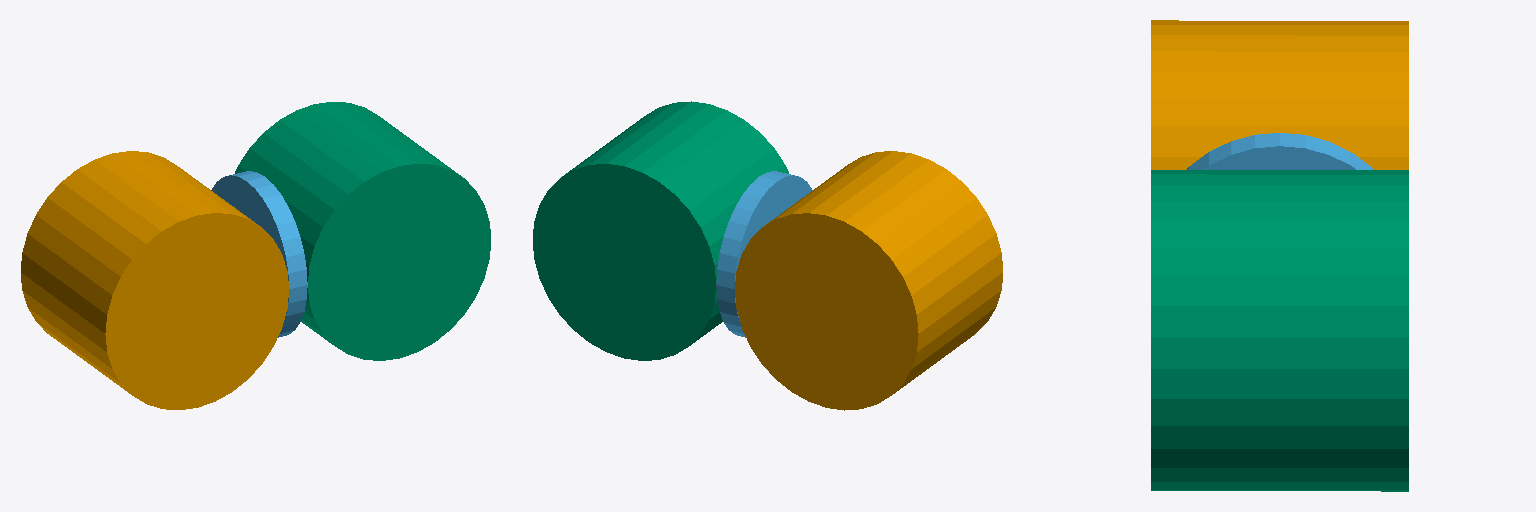
URDF robot description (magneto0):
<?xml version="1.0"?>
<robot name="magneto0">
 <link name="foot">
  <inertial>
    <mass value="1"/>
    <inertia ixx="0.00115833333333" ixy="0" ixz="0" iyy="0.00115833333333" iyz="0" izz="0.000625"/>
  </inertial>
  <visual>
    <origin rpy="1.57 0 0" xyz="0 0 0"/>
    <geometry>
      <cylinder length="0.08" radius="0.05"/>
    </geometry>
  </visual>
  <collision>
    <origin rpy="1.57 0 0" xyz="0 0 0"/>
    <geometry>
      <cylinder length="0.08" radius="0.05"/>
    </geometry>
  </collision>
 </link>

 <link name="leg">
  <inertial>
    <mass value="1"/>
    <inertia ixx="0.000408333333333" ixy="0" ixz="0" iyy="0.000408333333333" iyz="0" izz="0.0004"/>
  </inertial>
  <visual>
    <origin rpy="0 1.57 0" xyz="0.055 0 0"/>
    <geometry>
      <cylinder length="0.01" radius="0.04"/>
    </geometry>
  </visual>
  <collision>
    <origin rpy="0 1.57 0" xyz="0.055 0 0"/>
    <geometry>
      <cylinder length="0.01" radius="0.04"/>
    </geometry>
  </collision>
 </link>

 <link name="foot2">
  <inertial>
    <mass value="1"/>
    <inertia ixx="0.00115833333333" ixy="0" ixz="0" iyy="0.00115833333333" iyz="0" izz="0.000625"/>
  </inertial>
  <visual>
    <origin rpy="1.57 0 0" xyz="0 0 0"/>
    <geometry>
      <cylinder length="0.08" radius="0.05"/>
    </geometry>
  </visual>
  <collision>
    <origin rpy="1.57 0 0" xyz="0 0 0"/>
    <geometry>
      <cylinder length="0.08" radius="0.05"/>
    </geometry>
  </collision>
 </link>

<joint name="joint_foot_leg_Z" type="revolute">
  <origin rpy="0 0 0" xyz="0 0 0"/>
  <parent link="foot"/>
  <child link="leg"/>
  <axis xyz="0 1 0"/>
  <dynamics damping="0.01" friction="0.5"/>
  <limit lower="-1.57" upper="1.57" effort="0.01" velocity="100"/>
</joint>

<joint name="joint_leg_foot2_Z" type="revolute">
  <origin rpy="0 0 0" xyz="0.11 0 0"/>
  <parent link="leg"/>
  <child link="foot2"/>
  <axis xyz="0 1 0"/>
  <dynamics damping="0.01" friction="0.5"/>
  <limit lower="-1.57" upper="1.57" effort="0.01" velocity="100"/>
</joint>

  <klampt package_root="../../.." default_acc_max="4" >
  </klampt>
</robot>

--- Facts derived from the render (not from the file) ---
The picture shows the robot from 3 angles, left to right: view 1: azimuth 30°, elevation 25°; view 2: azimuth 150°, elevation 25°; view 3: azimuth 270°, elevation 25°; orthographic projection.
Robot: magneto0 — 3 links, 2 joints (2 revolute); root link foot; default pose: all joints at 0.
Visible links, largest first — view 1: foot, foot2, leg; view 2: foot, foot2, leg; view 3: foot2, foot, leg.
Link boxes in pixels (x1,y1,x2,y2): foot: [21, 151, 288, 409]; foot2: [235, 102, 490, 360]; leg: [211, 171, 307, 337]; foot: [735, 151, 1002, 410]; foot2: [533, 101, 788, 360]; leg: [716, 171, 812, 337]; foot2: [1151, 170, 1408, 491]; foot: [1151, 20, 1408, 169]; leg: [1187, 133, 1372, 169].
Bounding box of the posed robot: 0.21 × 0.0801 × 0.1001 m (x, y, z).
Geometry: primitives only (box / cylinder / sphere), no mesh files.
